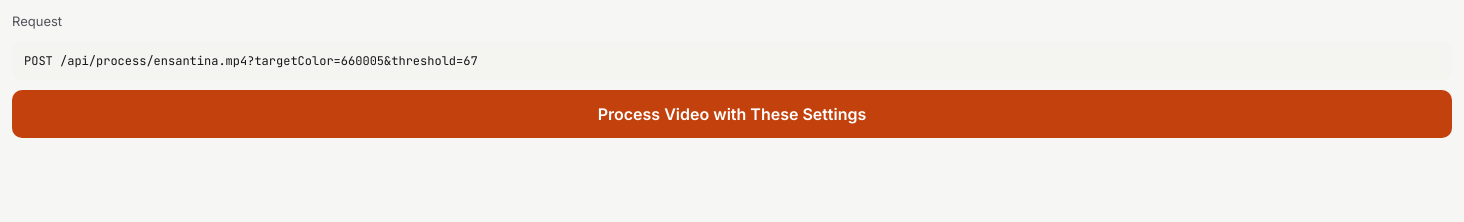
JobPanel › shows the error when the job fails
Click the button "Process Video with These Settings".
click(732, 114)  # box [12, 90, 1452, 138]
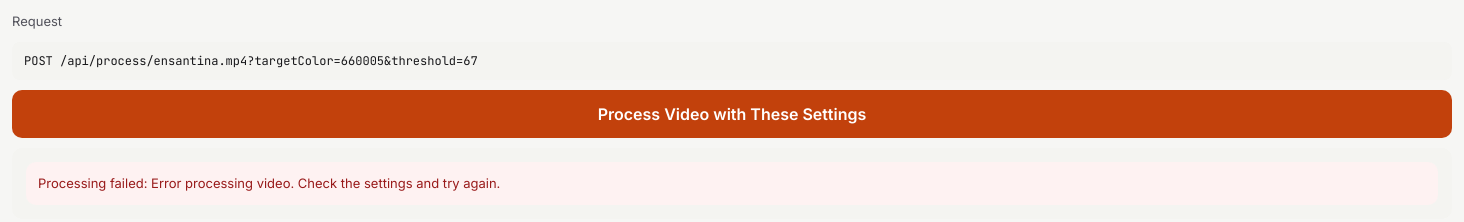
Result: the message shows "Processing failed: Error processing video" at [26, 162, 1438, 205]
